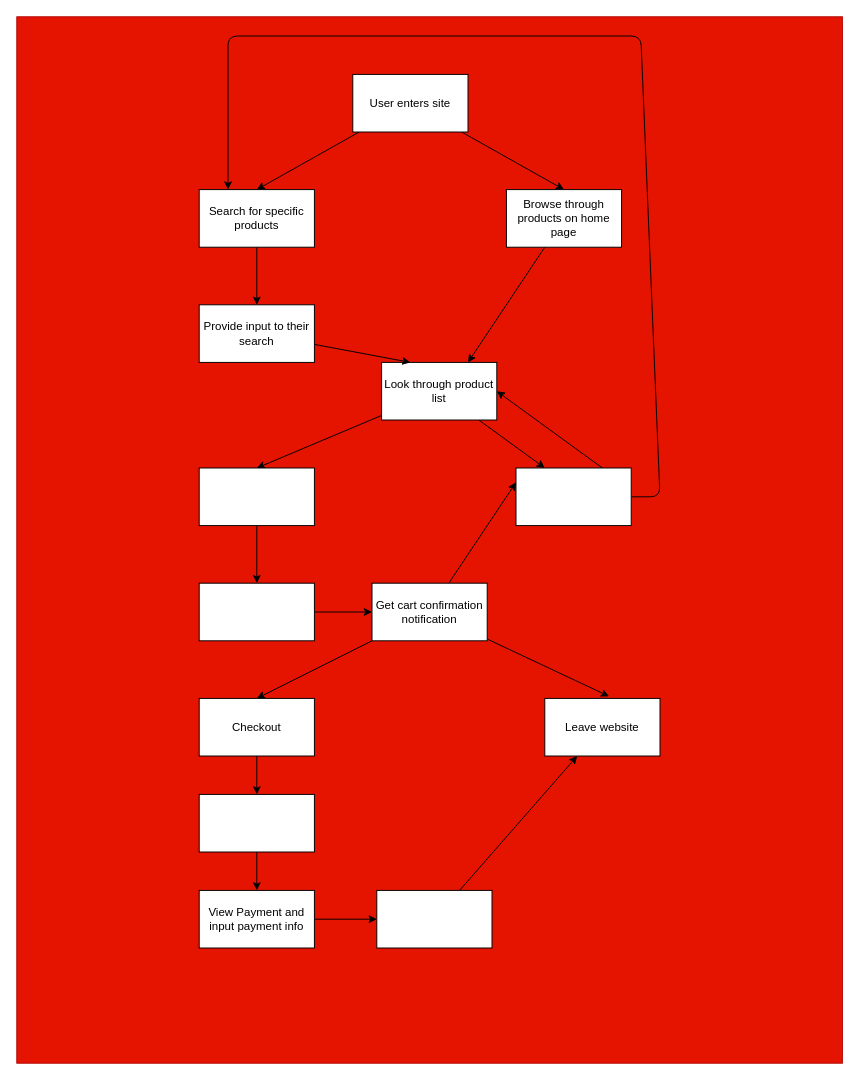
Some shapes in this 859 by 1080 pixel diagram are drawn without their labels. The shapes that lost their labels are listed below. From the top down, each one's centre as x and y in pixels, then its label:
At pixel 256 496: "View specific product webpage".
At pixel 573 496: "Keep shopping".
At pixel 256 611: "Add product to cart".
At pixel 256 822: "View cart".
At pixel 434 918: "View order confirmation and receive email confirmation".
